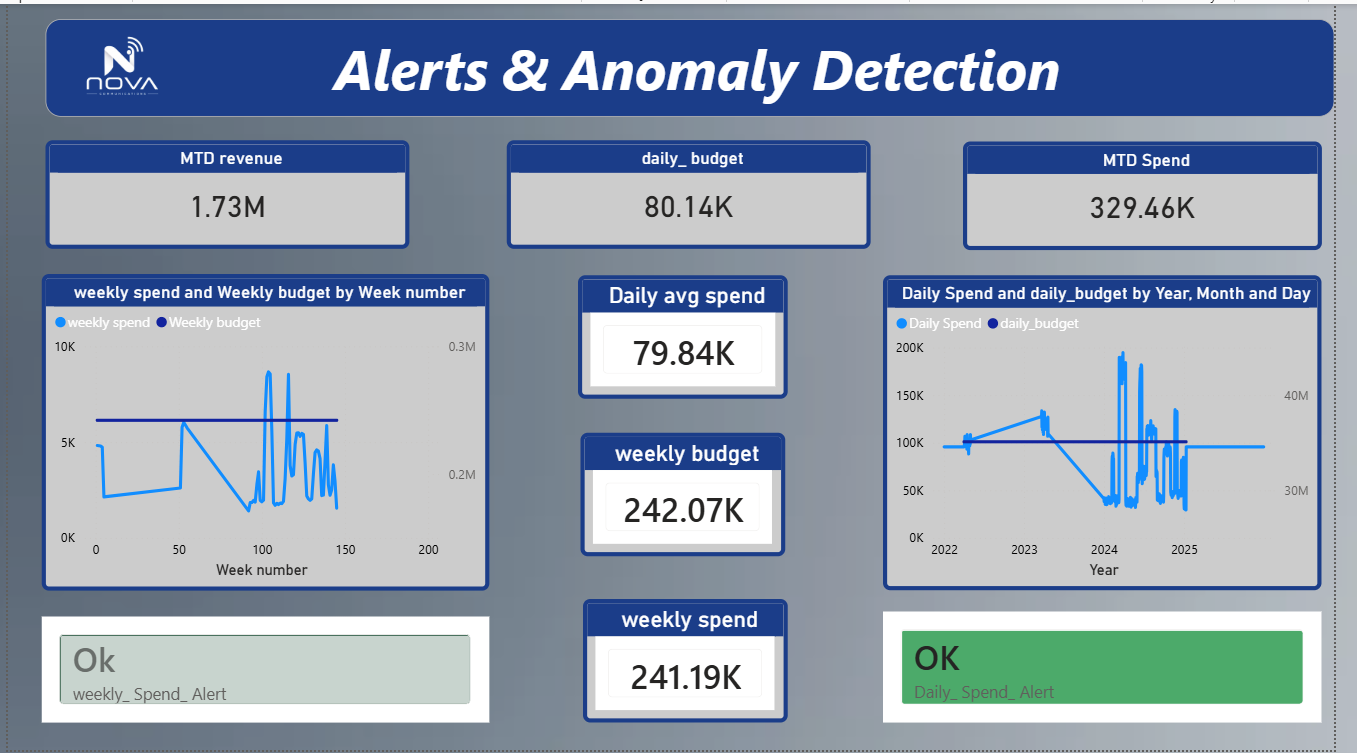

Layout of this report page (visuals, bound fields, positions):
{"tool":"powerbi","page":{"name":" Alerts & Anomaly Detection","canvas":[1280,720],"ordinal":5},"visuals":[{"type":"textbox","title":"Pudget Overview","box":[36.2,14.5,1243.8,94.1],"z":0},{"type":"image","box":[30.6,15.3,161.4,91.8],"z":2000},{"type":"cardVisual","title":"Daily avg spend","fields":{"Data":["Brand_Awareness_Metrics.Daily Avg Spend"]},"box":[550.1,261.8,202.7,119.4],"z":3000},{"type":"card","title":"MTD Spend","fields":{"Values":["Brand_Awareness_Metrics.MTD Spend"]},"box":[921.7,132.7,346.2,105],"z":4000},{"type":"card","title":"MTD revenue","fields":{"Values":["Brand_Awareness_Metrics.MTD Revenue"]},"box":[36.2,131.5,351.1,105],"z":5000},{"type":"lineChart","fields":{"Y":["Brand_Awareness_Metrics.Daily Spend"],"Category":["Calender.Date.Variation.Date Hierarchy.Year","Calender.Date.Variation.Date Hierarchy.Month","Calender.Date.Variation.Date Hierarchy.Day"],"Y2":["__Daily_Channel_Performance.daily_budget"]},"box":[844.5,261.8,423.5,304],"z":6000},{"type":"cardVisual","fields":{"Data":["Brand_Awareness_Metrics.Daily_ Spend_ Alert"]},"box":[844.5,586.3,423.5,107.4],"z":7000},{"type":"card","title":"daily_ budget","fields":{"Values":["__Daily_Channel_Performance.daily_budget"]},"box":[481.4,131.5,351.1,105],"z":8000},{"type":"cardVisual","title":"weekly budget","fields":{"Data":["Brand_Awareness_Metrics.Weekly budget"]},"box":[552.5,413.8,197.9,119.4],"z":9000},{"type":"lineChart","fields":{"Category":["__Daily_Channel_Performance.Week number"],"Y":["Brand_Awareness_Metrics.weekly spend"],"Y2":["Brand_Awareness_Metrics.Weekly budget"]},"box":[32.6,260.6,431.9,305.2],"z":10000},{"type":"cardVisual","title":"weekly spend","fields":{"Data":["Brand_Awareness_Metrics.weekly spend"]},"box":[555,574.3,197.9,119.4],"z":11000},{"type":"cardVisual","fields":{"Data":["Brand_Awareness_Metrics.weekly_ Spend_ Alert"]},"box":[32.6,591.2,431.9,102.5],"z":12000}]}

Visuals, with their boxes in screenshot pixels (x1, y1, x2, y2), scaled from the page's 1280x720 canvas onto the 1357x753 screenshot:
"Pudget Overview" textbox: 38 15 1356 114
image: 32 16 204 112
"Daily avg spend" cardVisual: 583 274 798 399
"MTD Spend" card: 977 139 1344 249
"MTD revenue" card: 38 138 411 247
lineChart - Brand_Awareness_Metrics.Daily Spend x Calender.Date.Variation.Date Hierarchy.Year: 895 274 1344 592
cardVisual - Brand_Awareness_Metrics.Daily_ Spend_ Alert: 895 613 1344 725
"daily_ budget" card: 510 138 883 247
"weekly budget" cardVisual: 586 433 796 558
lineChart - __Daily_Channel_Performance.Week number x Brand_Awareness_Metrics.weekly spend: 35 273 492 592
"weekly spend" cardVisual: 588 601 798 725
cardVisual - Brand_Awareness_Metrics.weekly_ Spend_ Alert: 35 618 492 725
